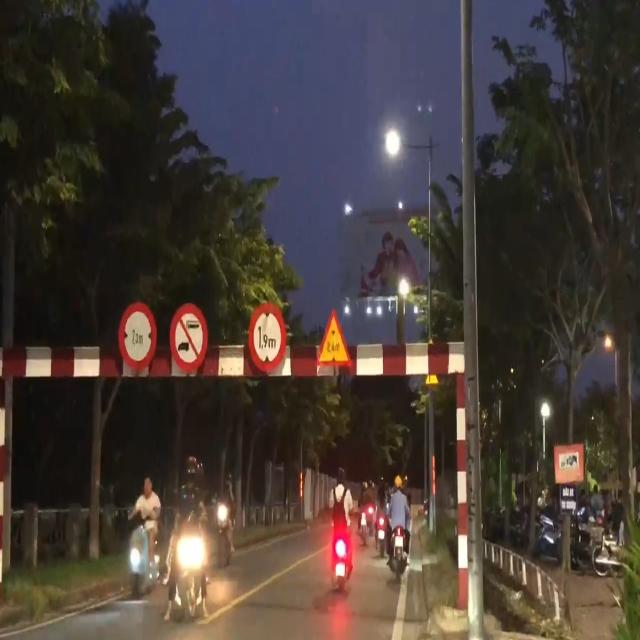Bien bao cam xe oto khach va xe oto tai: (168, 298, 208, 378)
Bien bao chieu cao tinh khong thuc te: (314, 301, 356, 370)
Bien bao han che chieu cao: (245, 297, 290, 379)
